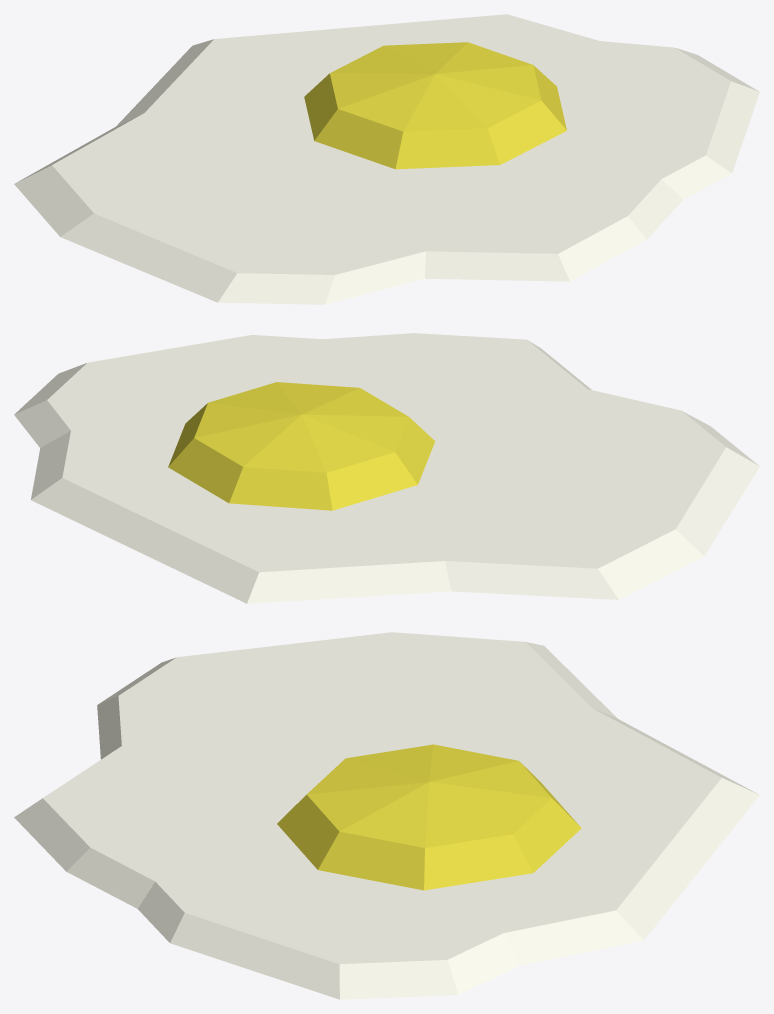
Rendered from Food_egg_cooked.glb.
3 renders of one model, top to bottom at view 1: azimuth 30°, elevation 25°; view 2: azimuth 150°, elevation 25°; view 3: azimuth 270°, elevation 25°, orthographic. The views are drawn at different scales.
Visible parts, largest first — view 1: egg_004; view 2: egg_004; view 3: egg_004.
Part boxes in pixels (box(x1,y1,x2,y2)): egg_004: box(14, 14, 759, 304); egg_004: box(14, 333, 759, 603); egg_004: box(14, 632, 759, 999).
Size of the model in its own units: 0.1407 by 0.0115 by 0.1216.
Materials: 1 (1 with a texture image).
